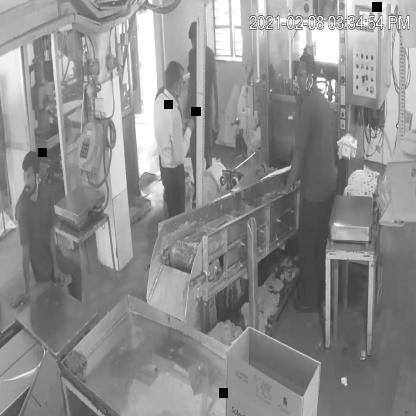no_glove: (268, 128, 310, 203), (47, 205, 70, 296), (165, 108, 196, 170), (11, 230, 33, 316), (207, 65, 225, 147)
